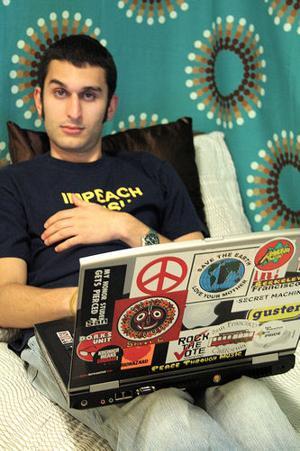person: (1, 35, 300, 450)
